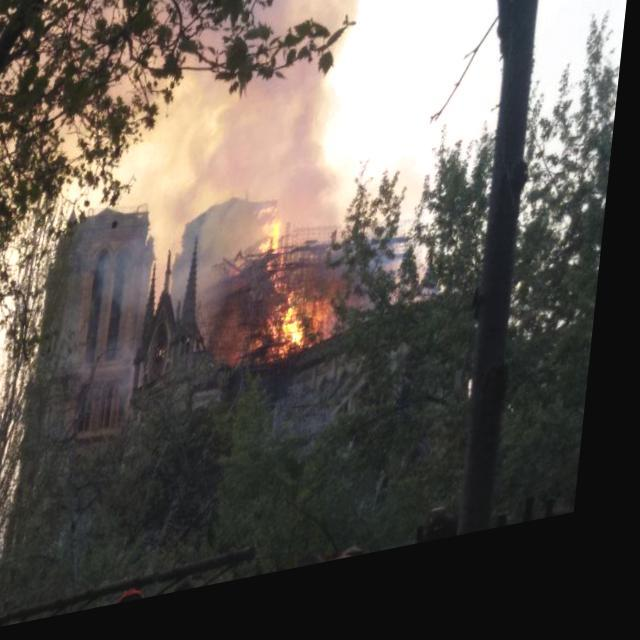Fire: (249, 206, 360, 389)
